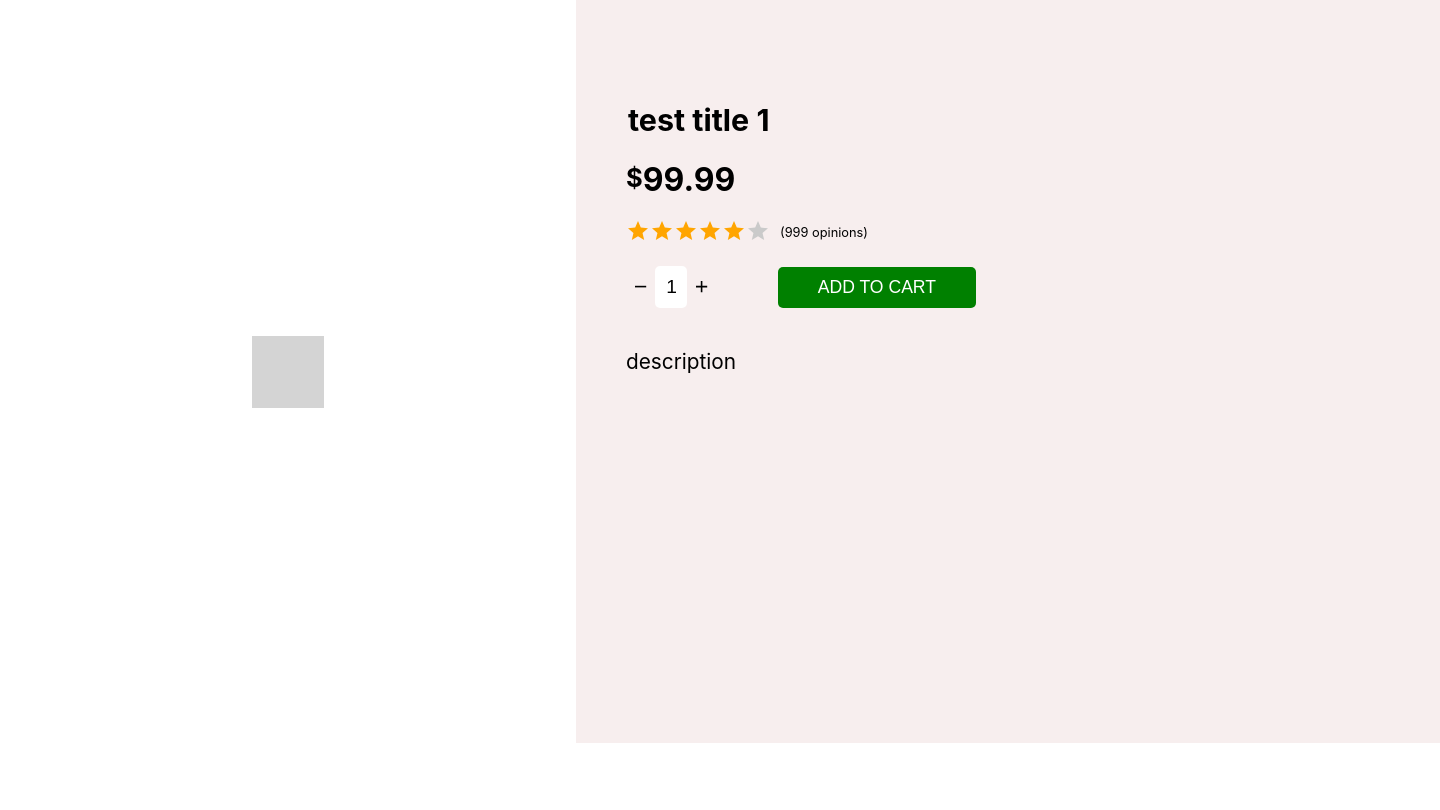
Test: ProductPage › changes input value when increment and decrement buttons are clicked
Click the button with test id "increment-btn". click: coordinates (702, 287)
box: [687, 266, 716, 308]
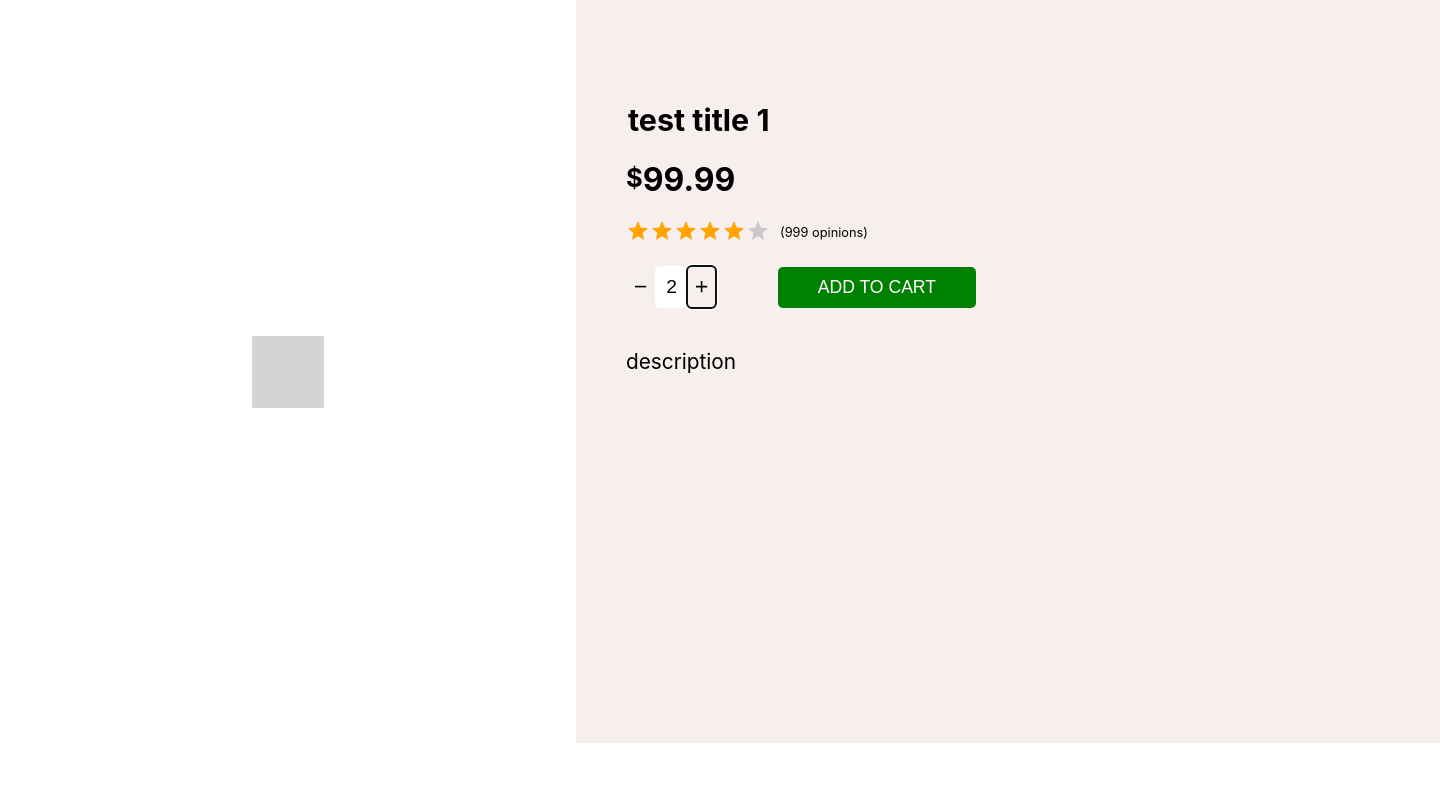
Result: the field holds "2" at [655, 266, 687, 308]
Click the button with test id "decrement-btn". click: coordinates (641, 287)
box: [626, 266, 655, 308]
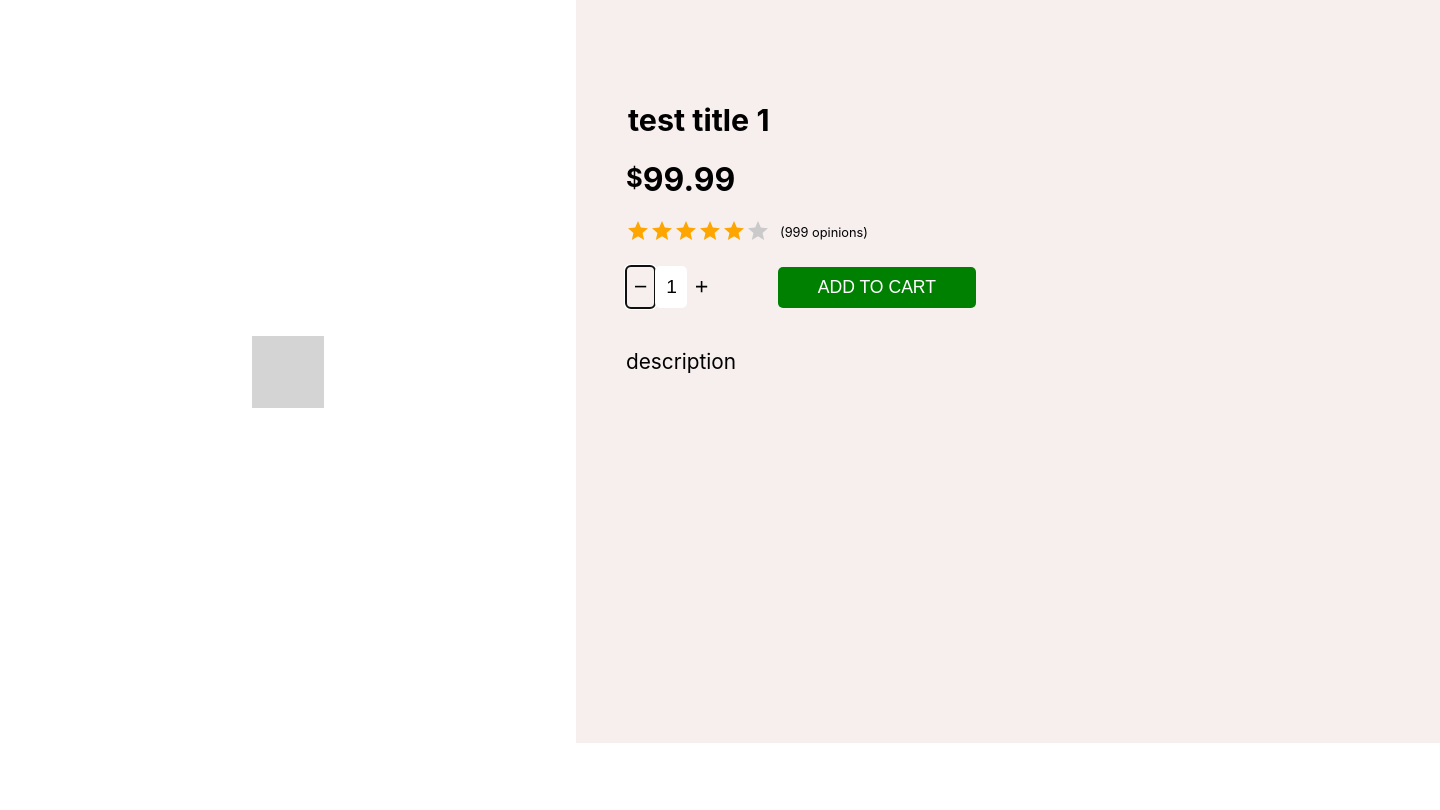
Result: the field holds "1" at [655, 266, 687, 308]
